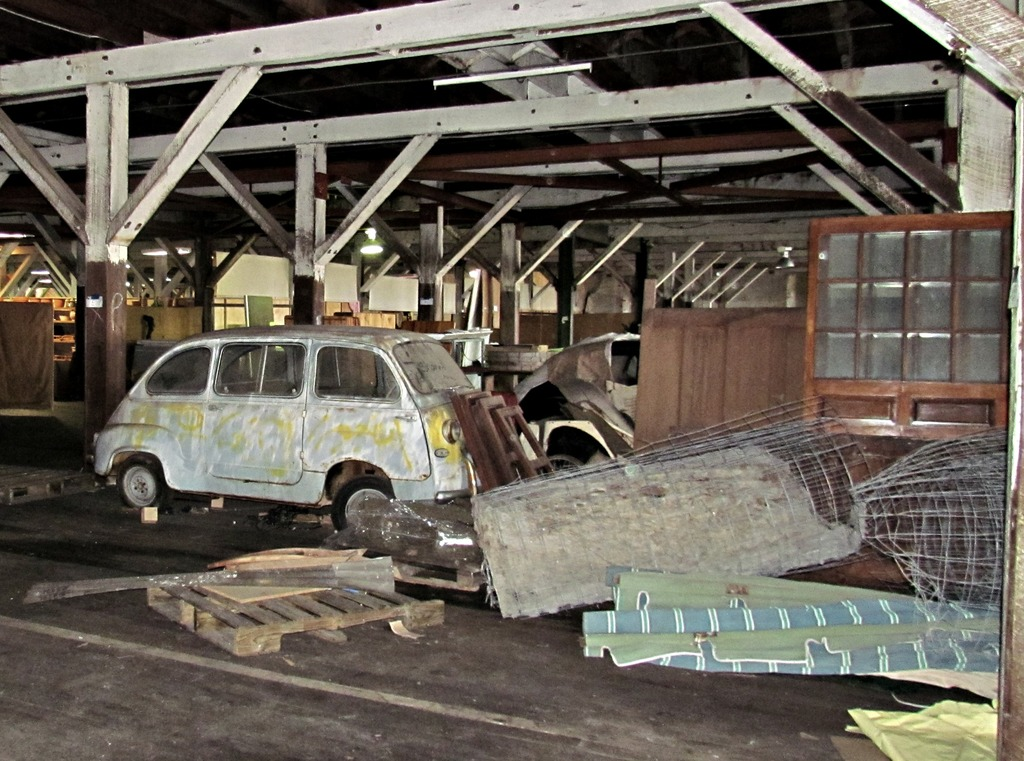Car: (86, 306, 536, 560)
